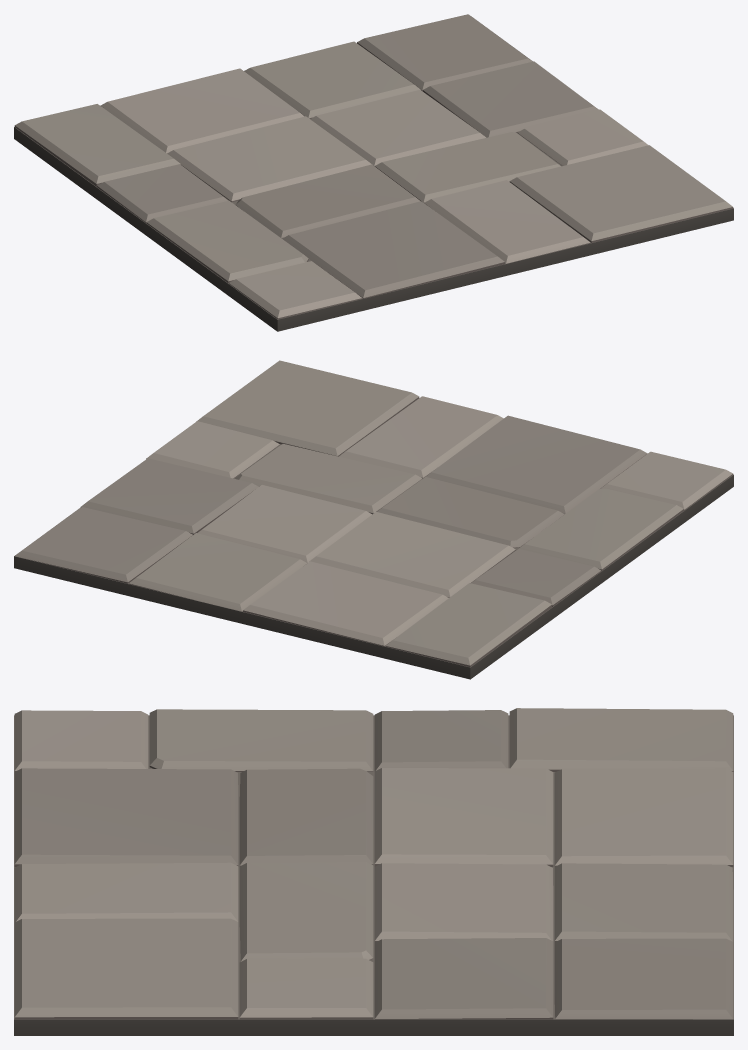
The model's file is floor_flagstones_large_D.glb.
3 renders of one model, top to bottom at view 1: azimuth 30°, elevation 25°; view 2: azimuth 150°, elevation 25°; view 3: azimuth 270°, elevation 25°, orthographic. The views are drawn at different scales.
Visible parts, largest first — view 1: Item; view 2: Item; view 3: Item.
Part boxes in pixels (x1=…): Item: x1=14, y1=14, x2=733, y2=331; Item: x1=14, y1=360, x2=733, y2=679; Item: x1=14, y1=708, x2=733, y2=1035.
Size of the model in its own units: 4 by 0.1642 by 4.
Materials: 1 (1 with a texture image).
